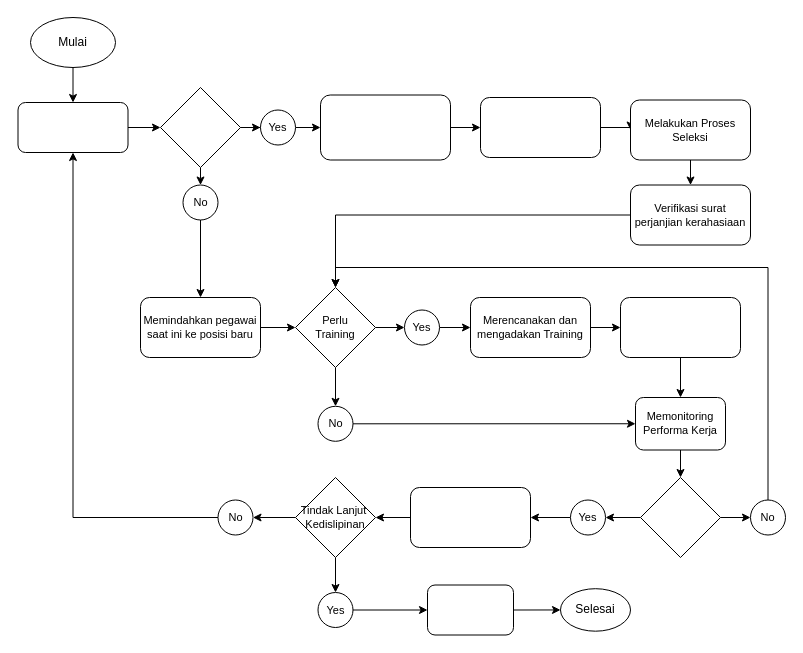
The diagram is 803 pixels wide and 653 high, and some of its shapes have lost their labels. Each missing label, with the centre of its shape:
Kebutuhan Posisi Baru: the point at 72,127
Kompetensi Terpenuhi: the point at 680,517
Memonitoring Kedislipinan Kerja: the point at 470,517
Menganalisa deskripsi pekerjaan dan persyaratan kompetensi,pendidikan: the point at 385,127
Mengevaluasi hasil training: the point at 680,327
Mengiklankan Lowongan Pekerjaan: the point at 540,127
Penghentian Kerja / Sanksi: the point at 470,609
Rekrut Pegawai Baru: the point at 200,127
